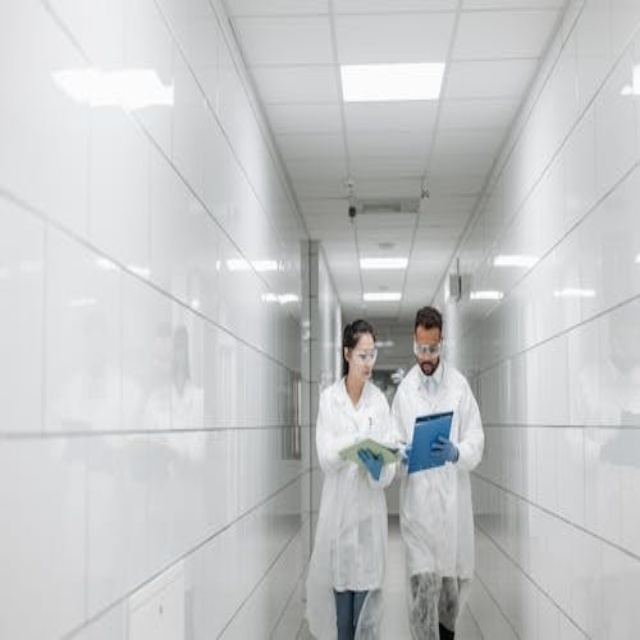Gafas: (414, 338, 442, 356), (351, 347, 378, 364)
Guantes: (358, 448, 383, 481), (431, 436, 459, 464), (398, 444, 411, 471)
Sin_mascara: (419, 356, 438, 376), (356, 362, 372, 381)
